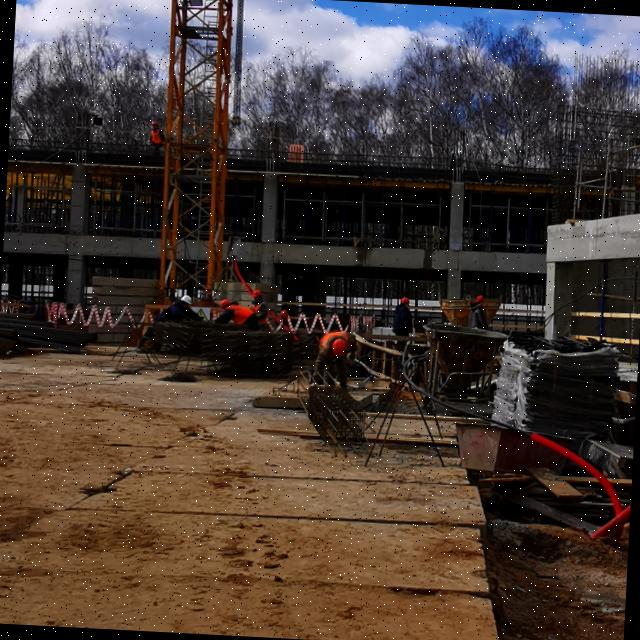Helmet: (333, 340, 350, 360), (182, 296, 194, 306), (253, 290, 264, 300), (221, 300, 231, 309), (401, 299, 411, 307), (477, 297, 486, 305), (153, 122, 161, 128)
Jacket: (229, 304, 254, 325), (253, 301, 268, 323), (151, 128, 163, 144)
NoJacket: (161, 304, 188, 323), (396, 306, 413, 336), (471, 305, 489, 330)
